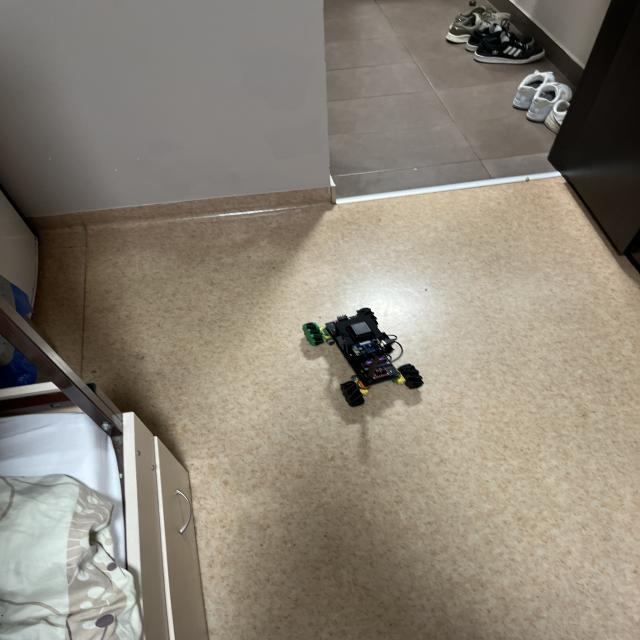robot: (302, 308, 423, 406)
